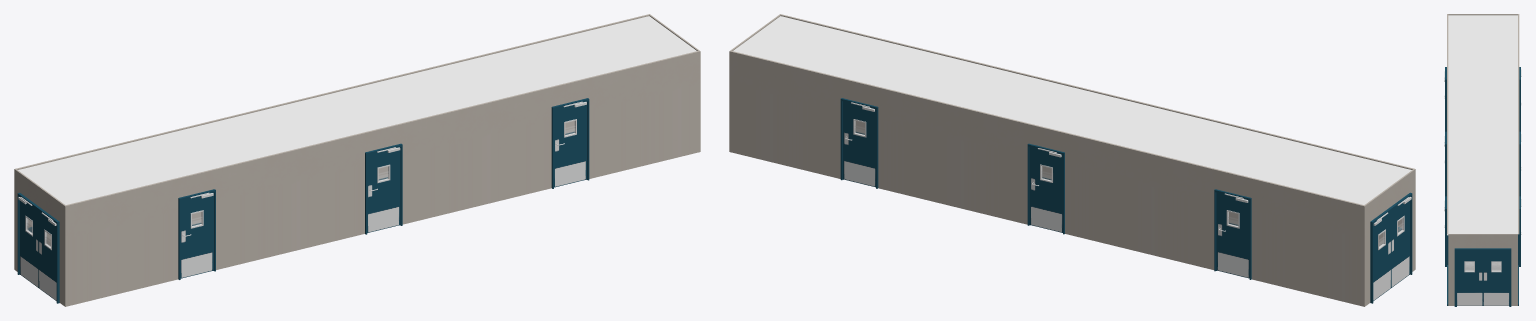
The model's file is Couloir_18m.FBX.
3 renders of one model, left to right at view 1: azimuth 30°, elevation 25°; view 2: azimuth 150°, elevation 25°; view 3: azimuth 270°, elevation 25°, orthographic. The views are drawn at different scales.
Visible parts, largest first — view 1: wall, top, PorteD009, PorteD002, PorteD003, PorteD007, PorteD008, DoublePorte011, DoublePorte007, DoublePorte012, DoublePorte006; view 2: wall, top, PorteD005, PorteD006, PorteD004, PorteD008, PorteD007, DoublePorte011, DoublePorte008, DoublePorte009, DoublePorte010; view 3: top, wallPorte, PorteD, PorteD001, wall, DoublePorte005, DoublePorte007, DoublePorte008, ground, DoublePorte009, DoublePorte006, DoublePorte012 (+2 smaller).
Part boxes in pixels (x1=…): wall: x1=14, y1=14, x2=700, y2=306; top: x1=18, y1=16, x2=696, y2=204; PorteD009: x1=180, y1=193, x2=213, y2=278; PorteD002: x1=367, y1=147, x2=400, y2=232; PorteD003: x1=554, y1=101, x2=586, y2=187; PorteD007: x1=18, y1=197, x2=38, y2=287; PorteD008: x1=39, y1=211, x2=56, y2=300; DoublePorte011: x1=17, y1=193, x2=59, y2=303; DoublePorte007: x1=551, y1=98, x2=589, y2=188; DoublePorte012: x1=178, y1=189, x2=215, y2=279; DoublePorte006: x1=365, y1=143, x2=402, y2=234; wall: x1=729, y1=14, x2=1415, y2=306; top: x1=733, y1=16, x2=1411, y2=204; PorteD005: x1=1030, y1=147, x2=1062, y2=232; PorteD006: x1=1217, y1=192, x2=1249, y2=278; PorteD004: x1=843, y1=101, x2=875, y2=187; PorteD008: x1=1391, y1=197, x2=1411, y2=287; PorteD007: x1=1373, y1=211, x2=1391, y2=300; DoublePorte011: x1=1370, y1=192, x2=1412, y2=303; DoublePorte008: x1=840, y1=98, x2=878, y2=188; DoublePorte009: x1=1027, y1=143, x2=1064, y2=234; DoublePorte010: x1=1214, y1=189, x2=1251, y2=279; top: x1=1447, y1=15, x2=1517, y2=235; wallPorte: x1=1448, y1=234, x2=1517, y2=305; PorteD: x1=1483, y1=251, x2=1509, y2=305; PorteD001: x1=1457, y1=251, x2=1482, y2=305; wall: x1=1447, y1=14, x2=1519, y2=234; DoublePorte005: x1=1454, y1=248, x2=1511, y2=306; DoublePorte007: x1=1444, y1=196, x2=1448, y2=266; DoublePorte008: x1=1518, y1=196, x2=1521, y2=266; ground: x1=1465, y1=262, x2=1500, y2=270; DoublePorte009: x1=1519, y1=131, x2=1521, y2=196; DoublePorte006: x1=1444, y1=131, x2=1446, y2=196; DoublePorte012: x1=1444, y1=67, x2=1446, y2=131.
Bounding box in the file's own units: 1816 × 273 × 268.
